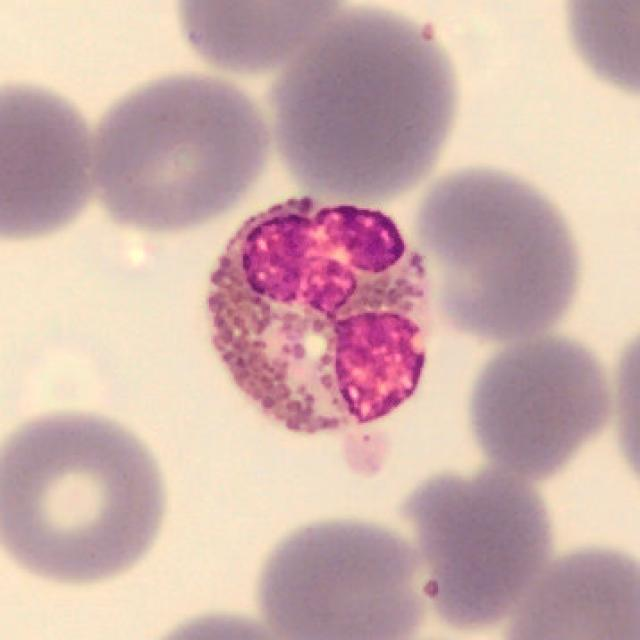Eosinofilo: (207, 197, 431, 437)
